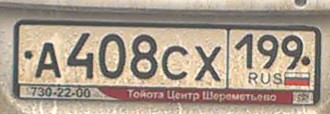character: (66, 29, 96, 80), (99, 30, 127, 82), (132, 33, 159, 82), (193, 42, 223, 85), (34, 39, 63, 82), (161, 43, 190, 82), (256, 33, 279, 72), (234, 32, 255, 73), (281, 34, 303, 72)
